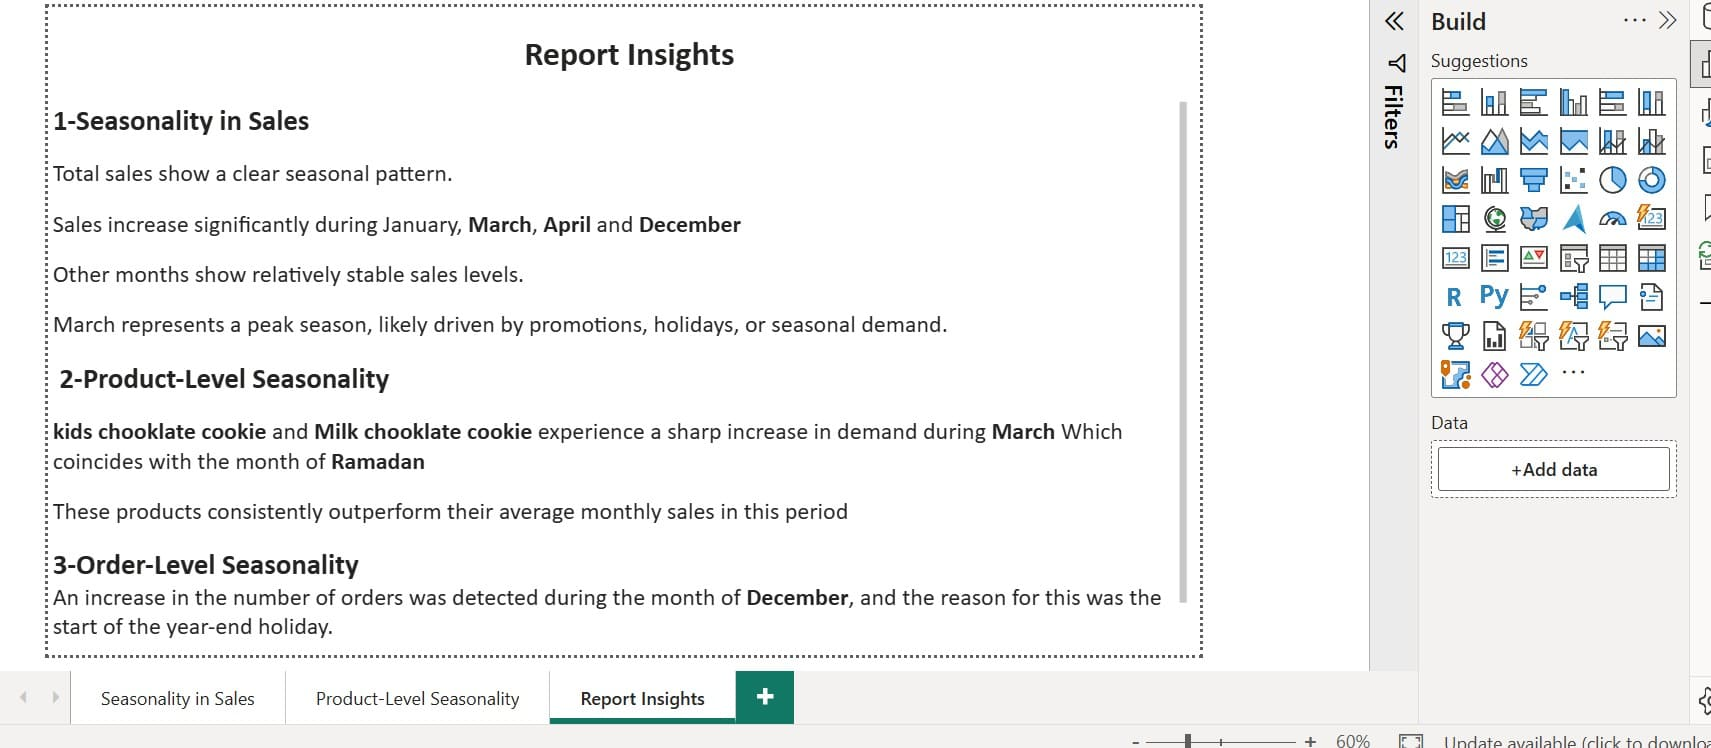

This screenshot's page, from the dashboard's own definition file:
{"tool":"powerbi","page":{"name":" Report Insights","canvas":[1280,720],"ordinal":2},"visuals":[{"type":"textbox","box":[0,100,1270,620],"z":0},{"type":"textbox","box":[443.3,23.3,396.7,76.7],"z":1000}]}

Visuals, with their boxes on the page's 1280x720 design canvas (x1, y1, x2, y2). These are canvas units, not pixel positions in the 1711x748 screenshot, which may show the page scaled, cropped or inside an application window:
textbox: <box>0,100,1270,720</box>
textbox: <box>443,23,840,100</box>
